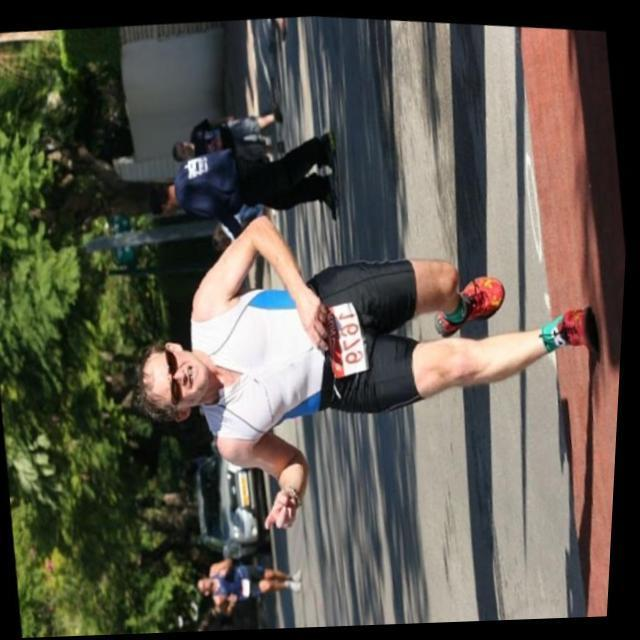dorsal: (317, 288, 378, 378)
